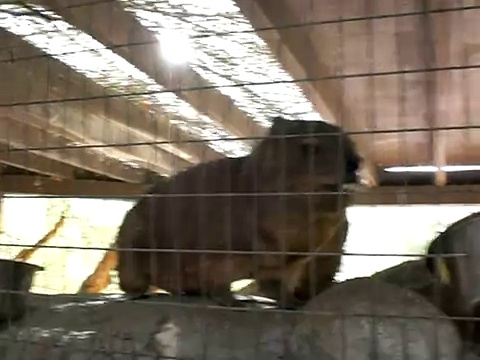Rock Hyrex: (116, 119, 359, 316)
